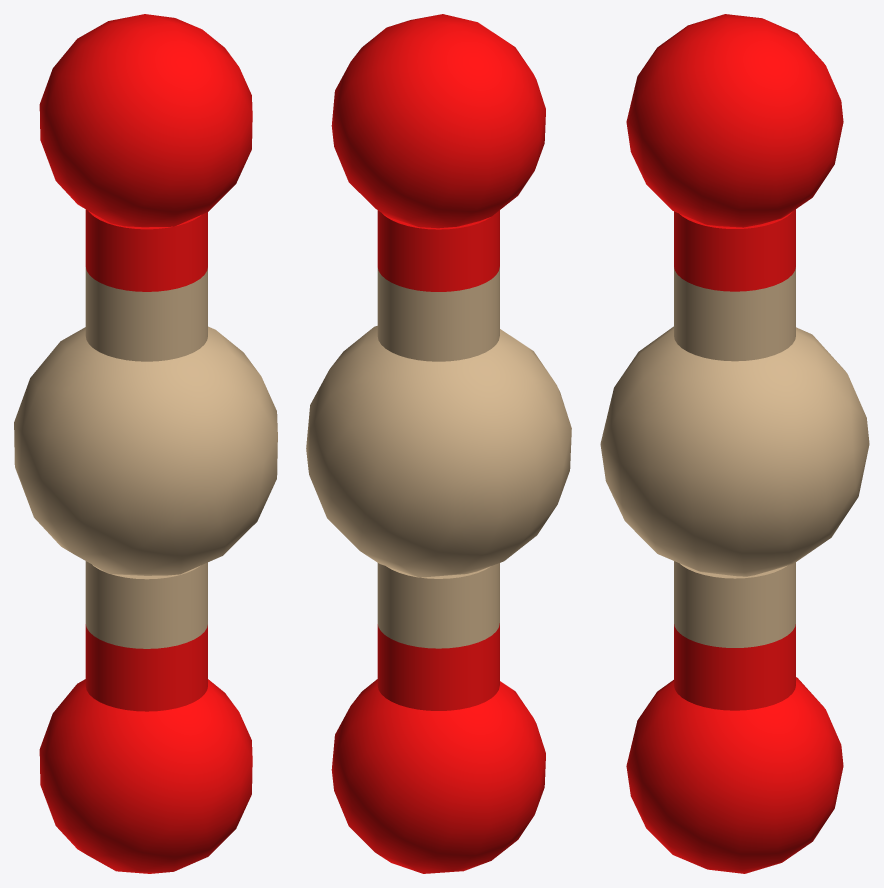
3 renders of one model, left to right at view 1: azimuth 30°, elevation 25°; view 2: azimuth 150°, elevation 25°; view 3: azimuth 270°, elevation 25°, orthographic.
Visible parts, largest first — view 1: subnode_0, subnode_1, subnode_2, subnode_5, subnode_3, subnode_4, subnode_6; view 2: subnode_0, subnode_1, subnode_2, subnode_5, subnode_3, subnode_4, subnode_6; view 3: subnode_0, subnode_1, subnode_2, subnode_5, subnode_3, subnode_4, subnode_6.
Boxes of the visible parts, x1,y1,x2,y2 form: subnode_0: (14,326,277,575); subnode_1: (39,14,252,227); subnode_2: (39,679,252,873); subnode_5: (85,561,207,648); subnode_3: (85,267,207,361); subnode_4: (85,209,207,291); subnode_6: (85,624,207,711); subnode_0: (306,326,571,577); subnode_1: (331,14,545,228); subnode_2: (331,679,545,873); subnode_5: (377,563,499,648); subnode_3: (377,267,499,361); subnode_4: (377,210,499,291); subnode_6: (377,623,499,710); subnode_0: (600,326,869,576); subnode_1: (626,14,843,227); subnode_2: (626,677,843,873); subnode_5: (674,561,795,647); subnode_3: (674,267,795,361); subnode_4: (674,209,795,291); subnode_6: (674,624,795,710).
Bounding box in the file's own units: 0.8716 × 3.03 × 0.88.
